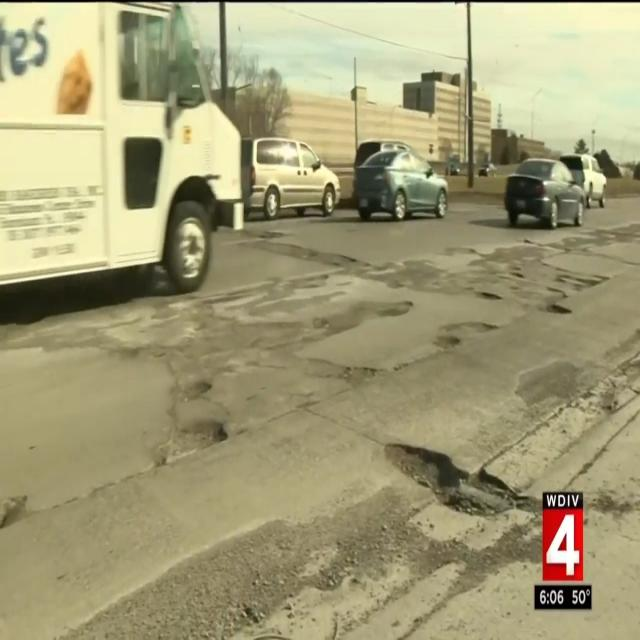pothole: (386, 444, 538, 515), (154, 371, 230, 467), (376, 300, 413, 316), (434, 335, 462, 349), (548, 303, 572, 313), (482, 284, 500, 291)
